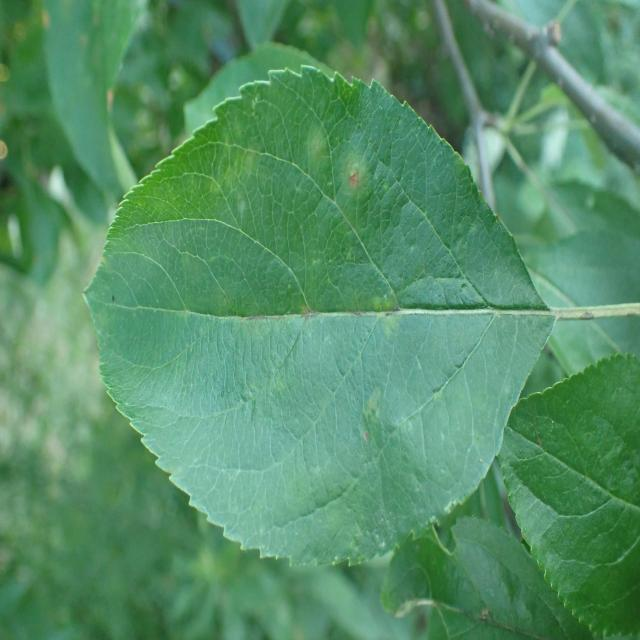scab: (176, 99, 451, 504)
